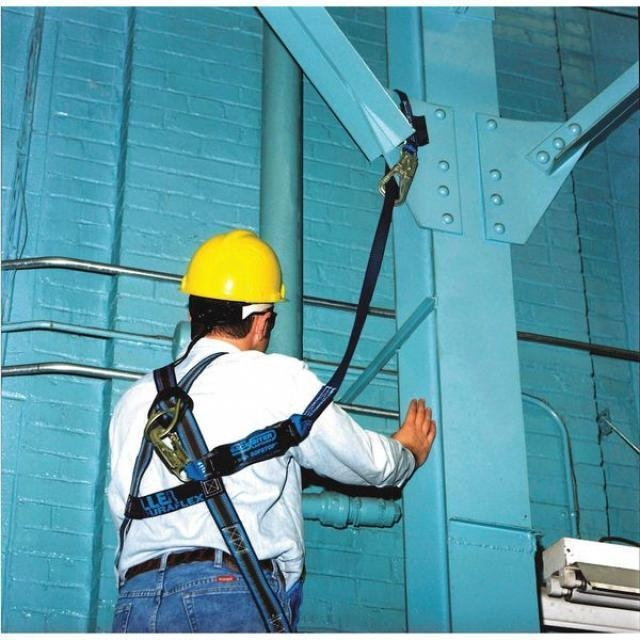Arnes_seguridad: (109, 342, 291, 594)
